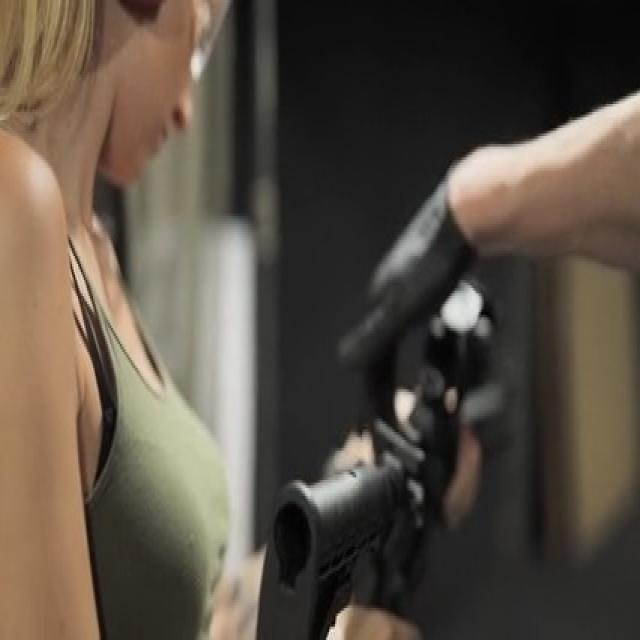Gun_Holder: (232, 233, 592, 640)
Person: (0, 0, 309, 640)
